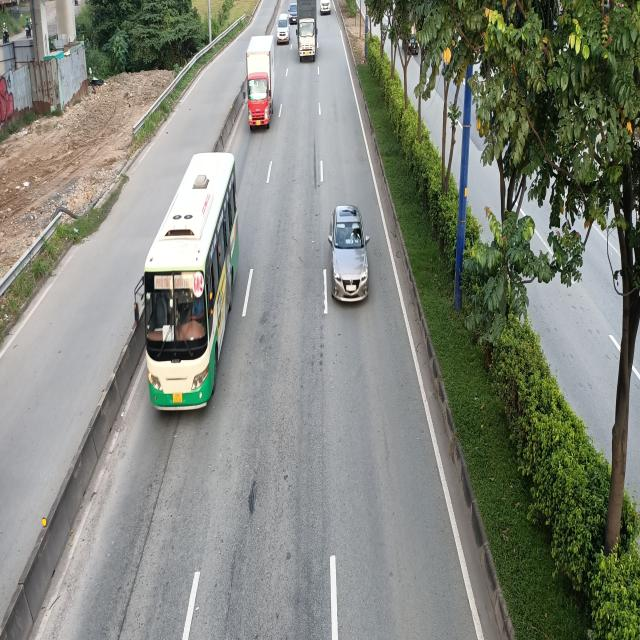car: (328, 202, 370, 303), (276, 16, 290, 46)
coach: (133, 147, 239, 409)
truck: (246, 36, 277, 130), (297, 0, 318, 62)
